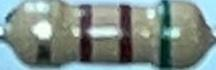Brown: (78, 5, 92, 62), (119, 5, 133, 62)
Green: (158, 2, 173, 68)
Side-Silver: (36, 0, 53, 65)
